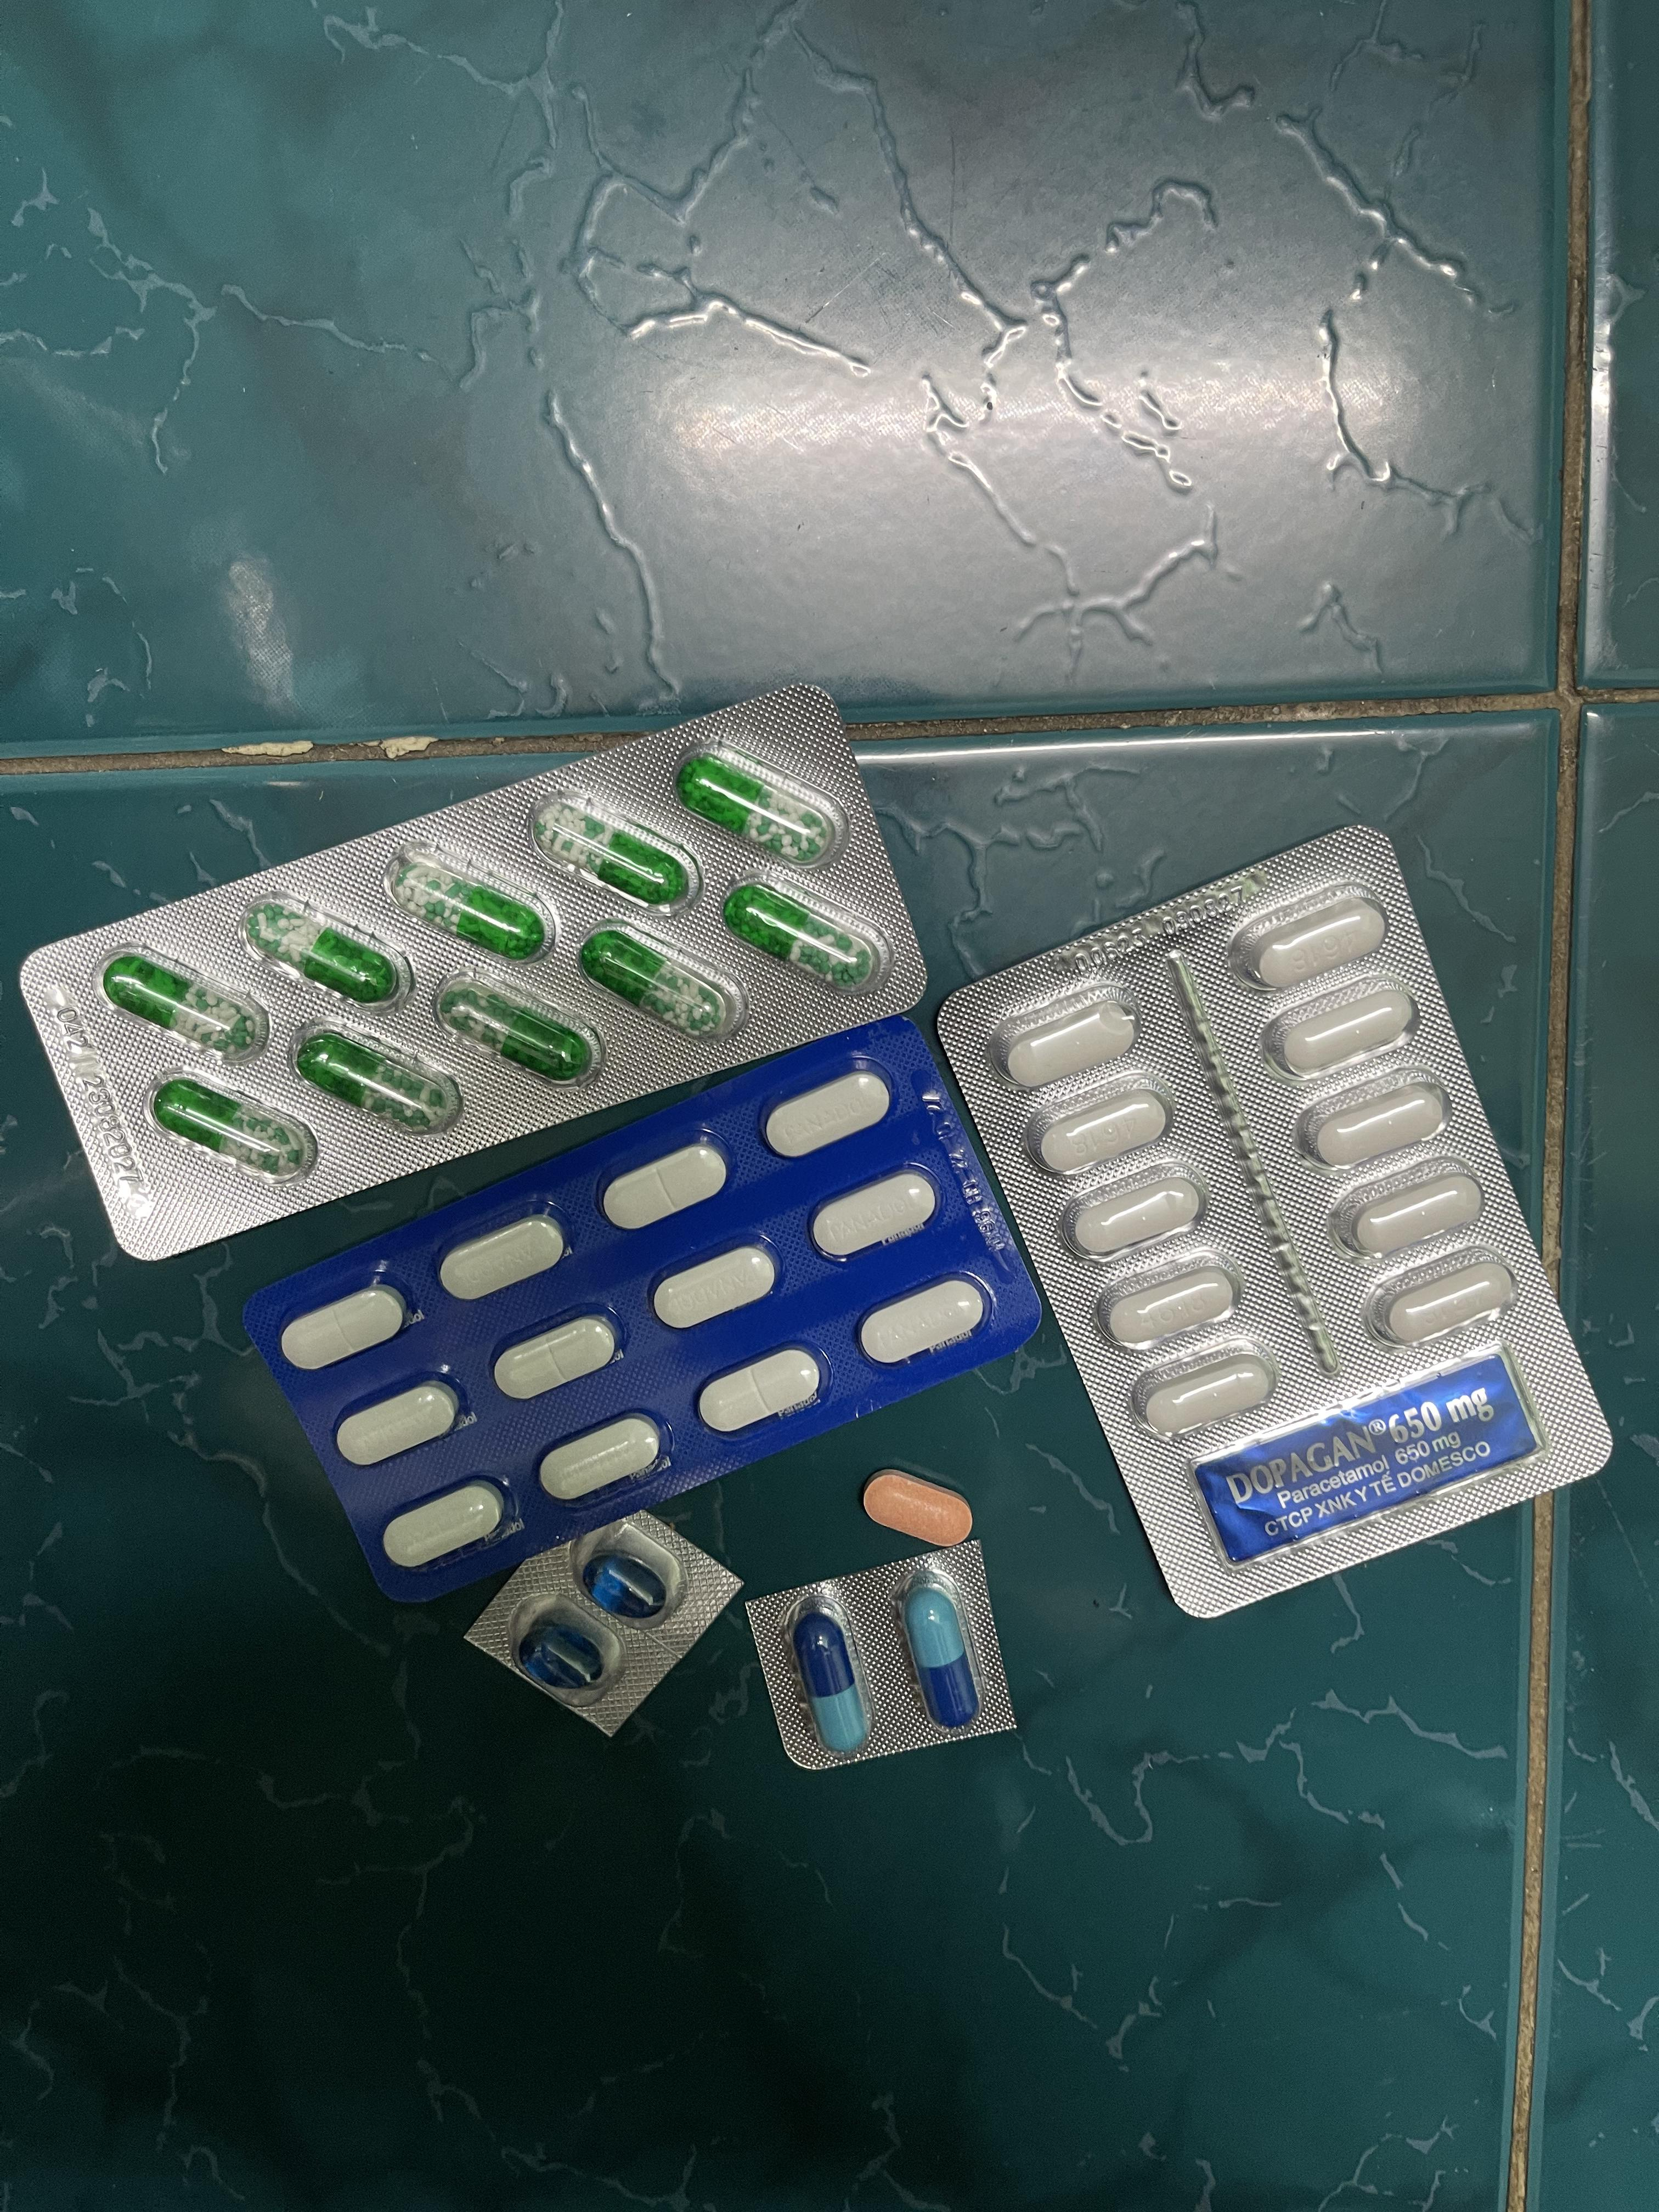Lincomyxin_500mg: (521, 1622, 606, 1689), (587, 1554, 667, 1618)
Loratadine_10mg: (863, 1468, 979, 1550)
Paracetamol_350mg: (810, 1167, 943, 1259), (857, 1278, 988, 1371), (652, 1242, 782, 1331), (601, 1143, 732, 1231), (382, 1480, 512, 1569), (333, 1376, 462, 1465), (281, 1285, 411, 1372), (437, 1214, 568, 1301), (762, 1069, 892, 1157), (537, 1414, 662, 1501), (493, 1315, 620, 1400), (699, 1346, 823, 1433)
Paracetamol_500mg: (1230, 880, 1389, 993), (1326, 1157, 1488, 1261), (1262, 975, 1420, 1078), (1298, 1073, 1450, 1169), (1371, 1258, 1520, 1350), (995, 995, 1133, 1094), (1098, 1252, 1237, 1348), (1063, 1162, 1201, 1258), (1140, 1353, 1281, 1442), (1035, 1085, 1169, 1177)
Paracetamol_650mg: (103, 948, 272, 1064), (150, 1073, 321, 1181), (678, 754, 838, 859), (580, 928, 734, 1036), (390, 864, 542, 960), (298, 1035, 451, 1129), (732, 887, 877, 986), (439, 988, 589, 1083), (538, 813, 688, 907), (267, 923, 401, 1005)
pill: (784, 1590, 873, 1761), (904, 1571, 979, 1730)
